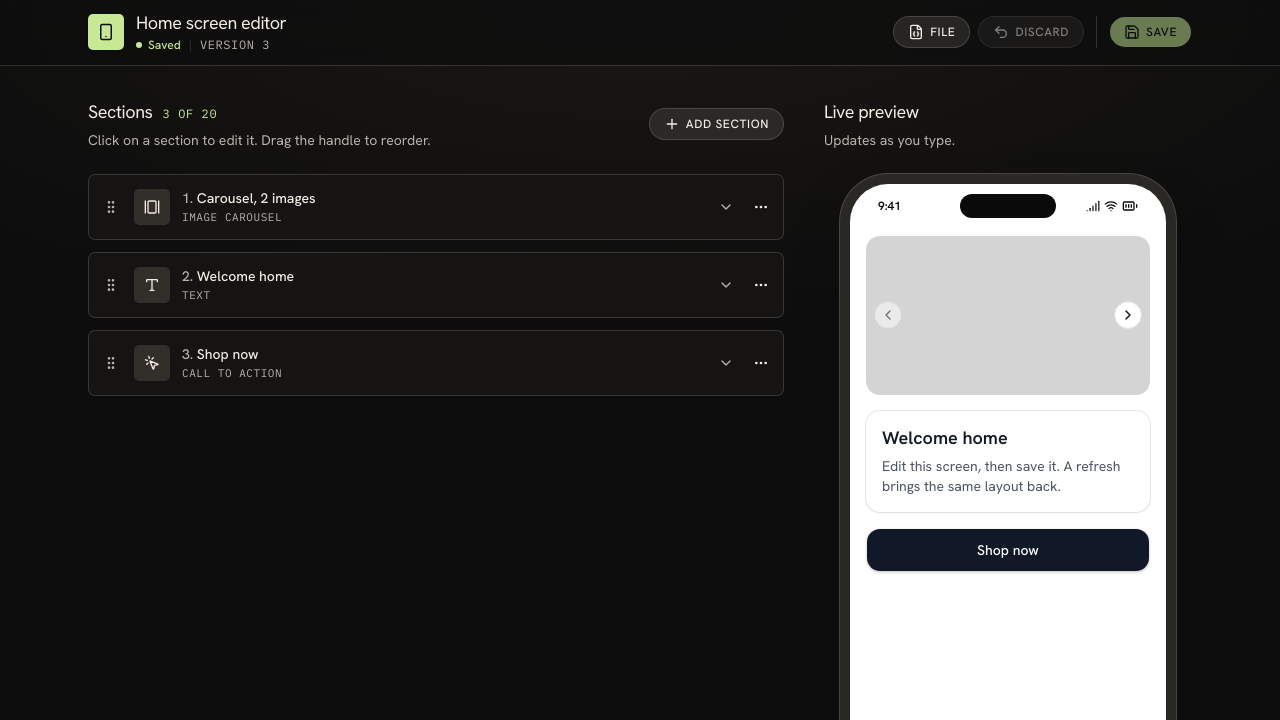
it: EditorToolbar › discards unsaved changes after confirmation
expect the button "Discard" is disabled: met, box [978, 16, 1084, 48]
Click the button "2. Welcome home Text" at (152, 284), box [89, 252, 783, 316]
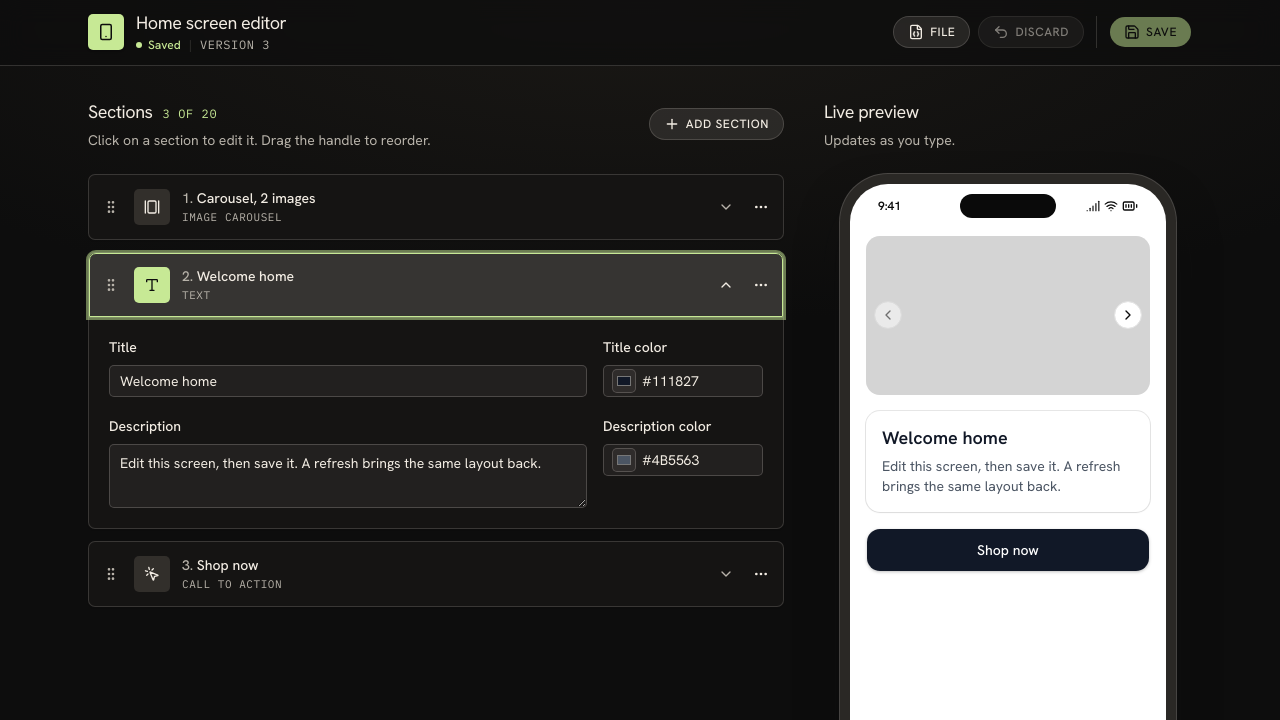
Clear the field labelled "Title" at (348, 381), box [109, 365, 587, 397]
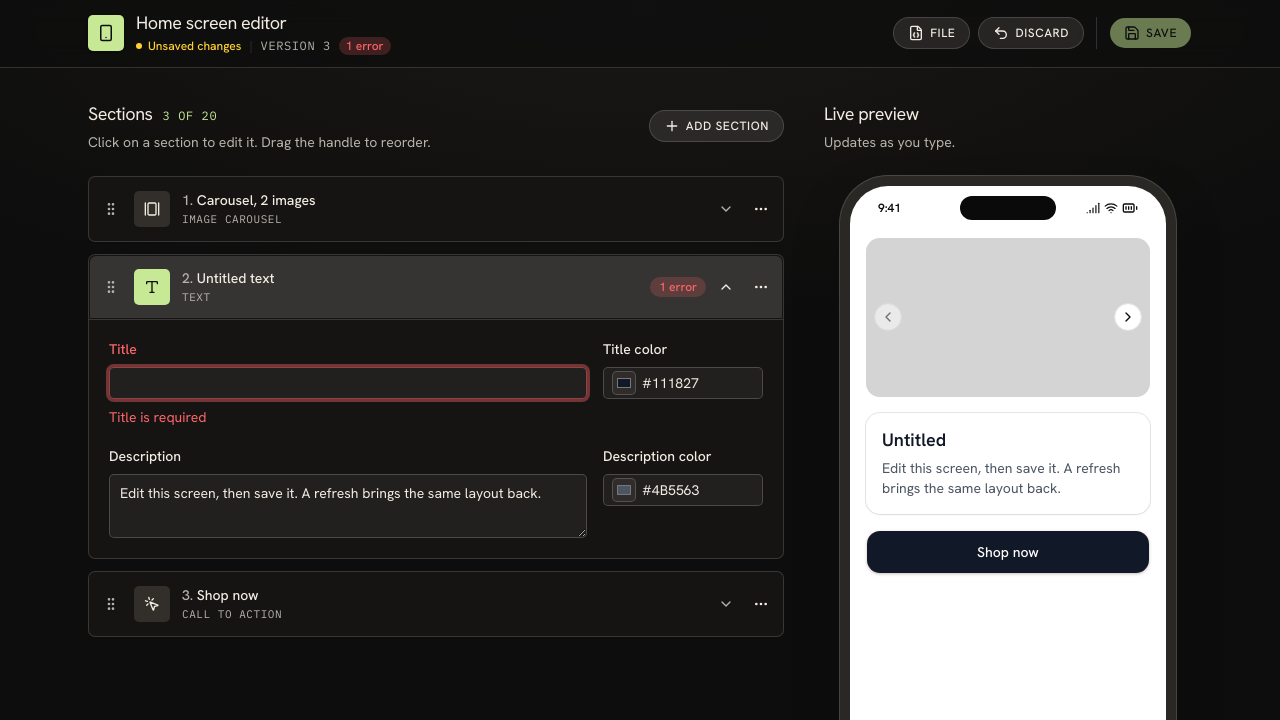
Type "Throwaway" into the field labelled "Title" at (348, 383), box [109, 367, 587, 399]
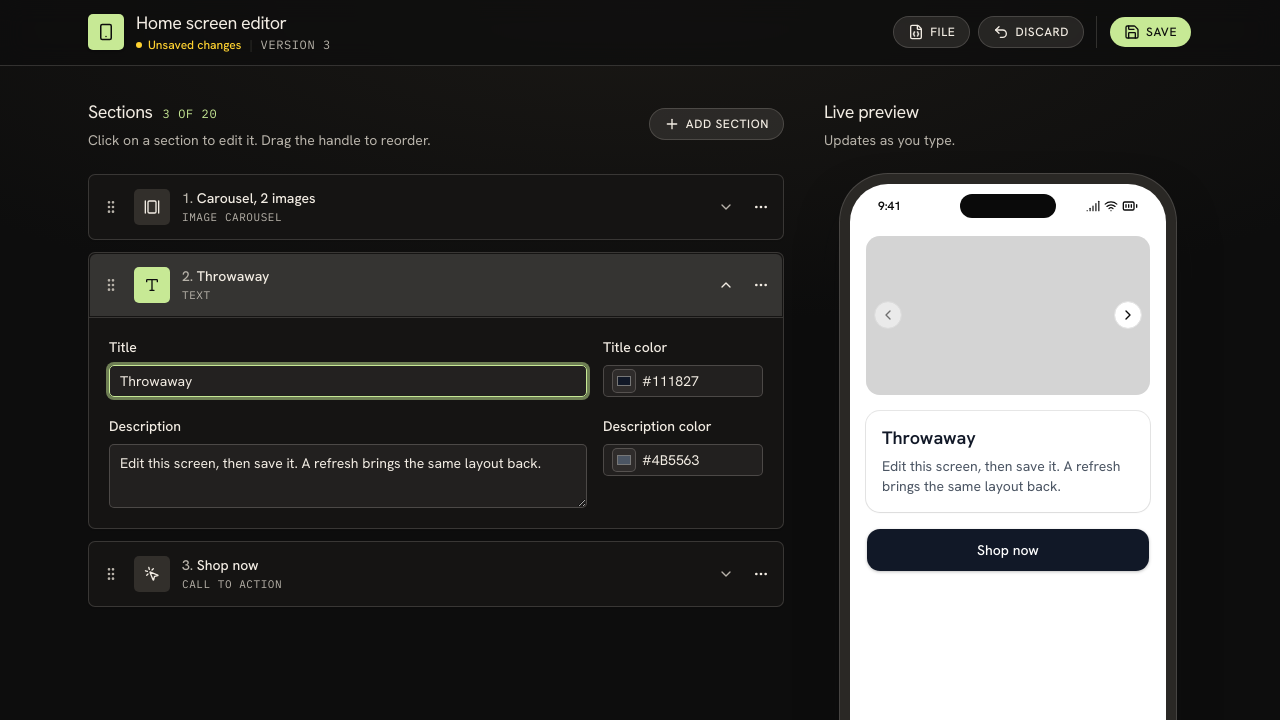
Click the button "Discard" at (1031, 32), box [978, 16, 1084, 48]
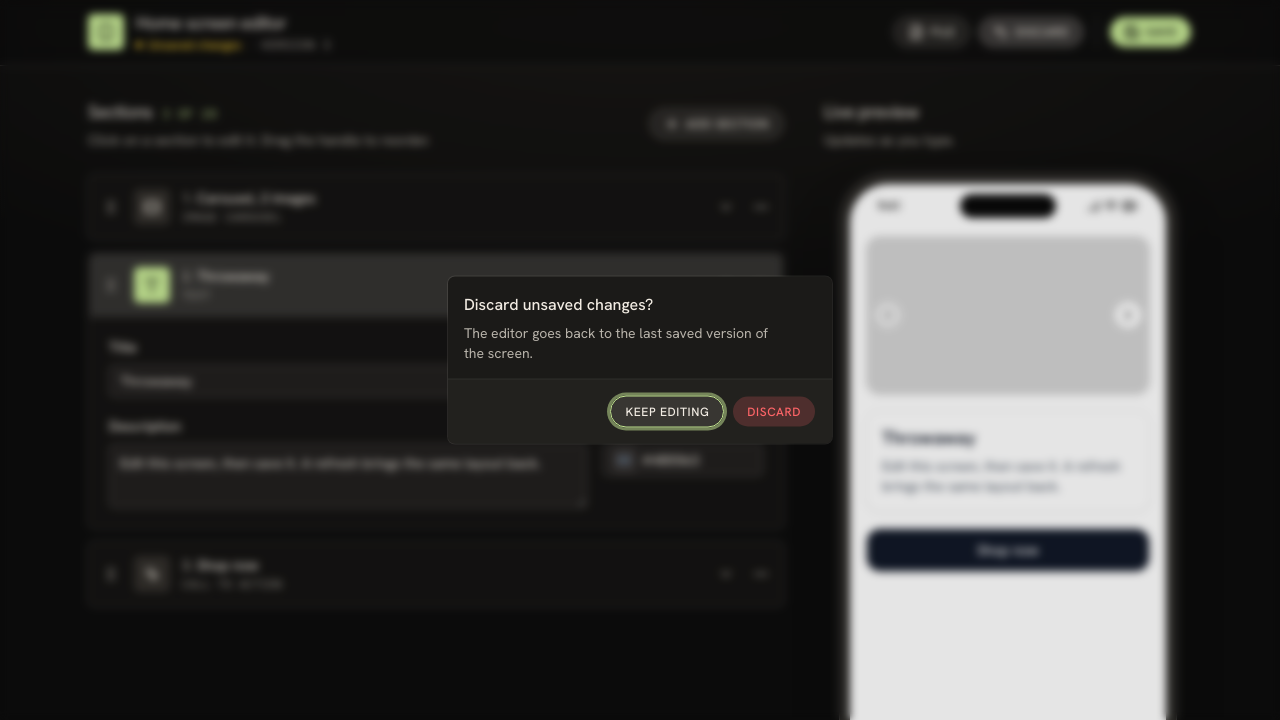
Click the button "Discard" at (774, 412), box [732, 396, 816, 428]
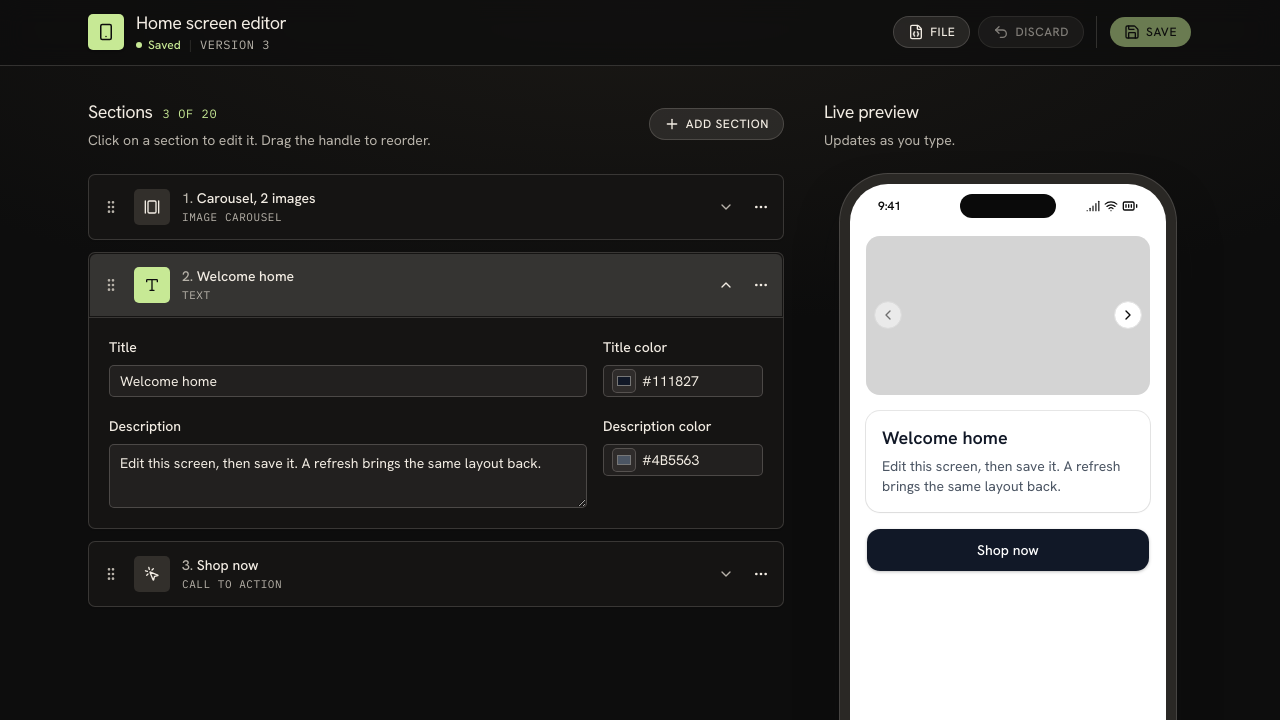
expect the text "Saved" is shown: met, box [148, 36, 181, 52]
expect the field labelled "Title" holds "Welcome home": met, box [109, 365, 587, 397]
expect the button "Save" is disabled: met, box [1109, 16, 1192, 48]
